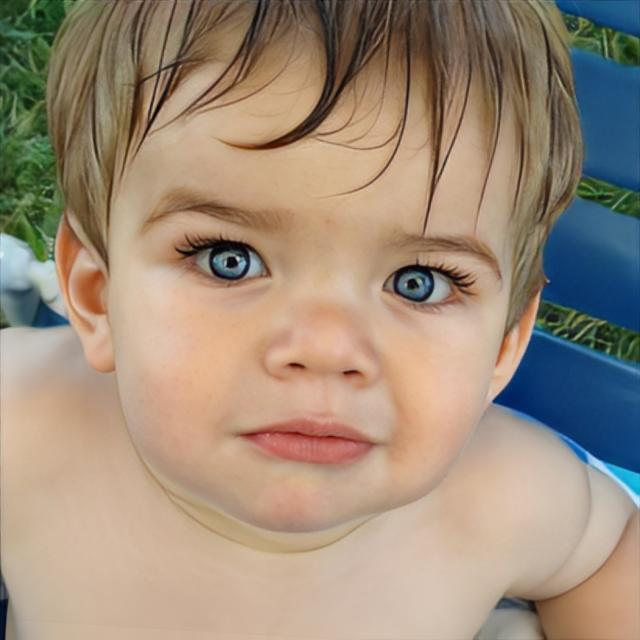sad: (112, 18, 508, 538)
